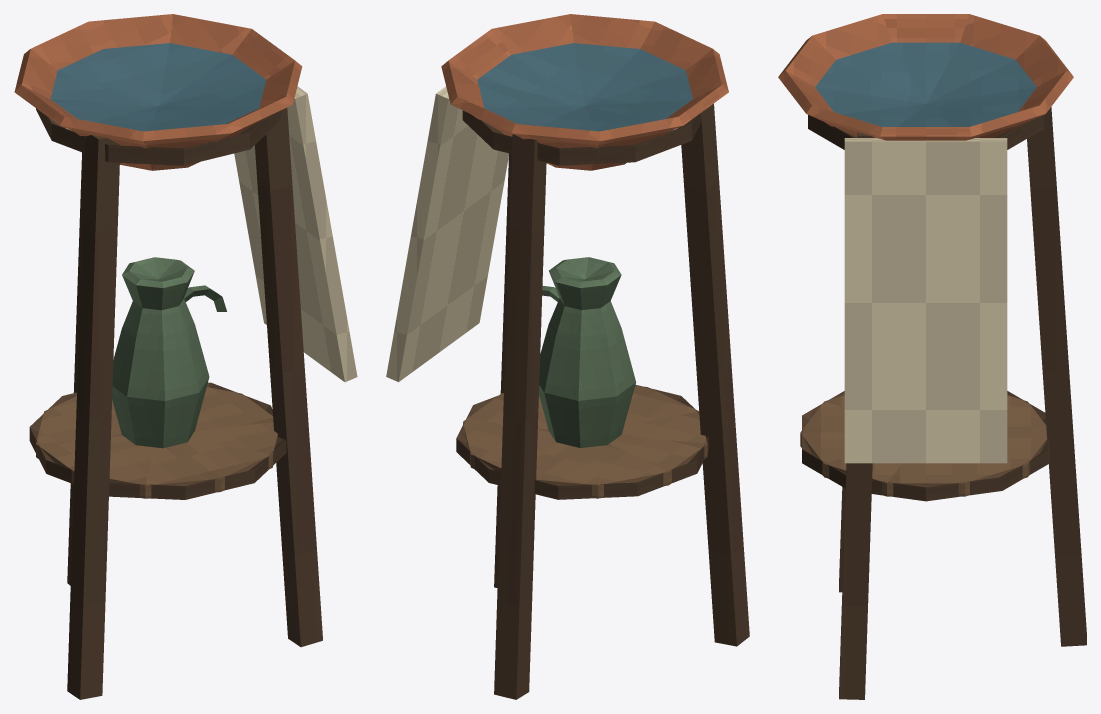
File: wash-basin-stand.glb
The picture shows the model from 3 angles, left to right: view 1: azimuth 30°, elevation 25°; view 2: azimuth 150°, elevation 25°; view 3: azimuth 270°, elevation 25°; orthographic projection.
Visible parts, largest first — view 1: wash-basin-stand.001; view 2: wash-basin-stand.001; view 3: wash-basin-stand.001.
Boxes of the visible parts, x1,y1,x2,y2 form: wash-basin-stand.001: (14, 14, 357, 699); wash-basin-stand.001: (386, 14, 749, 699); wash-basin-stand.001: (778, 14, 1086, 699).
Size of the model in its own units: 0.4396 by 0.8515 by 0.4175.
1 material, 1 textured.
